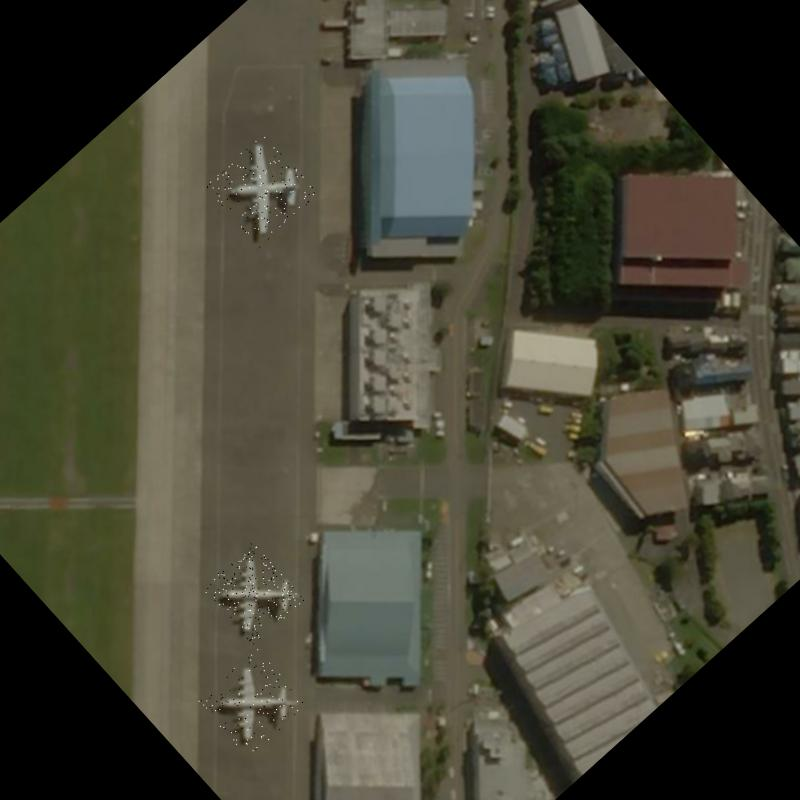A2: (204, 132, 319, 246)
A9: (196, 646, 308, 758), (201, 541, 304, 645)
